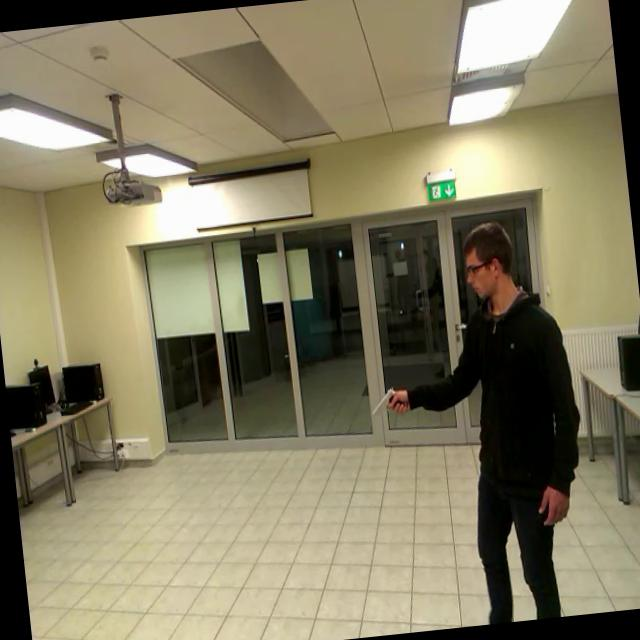handgun: (366, 378, 418, 427)
